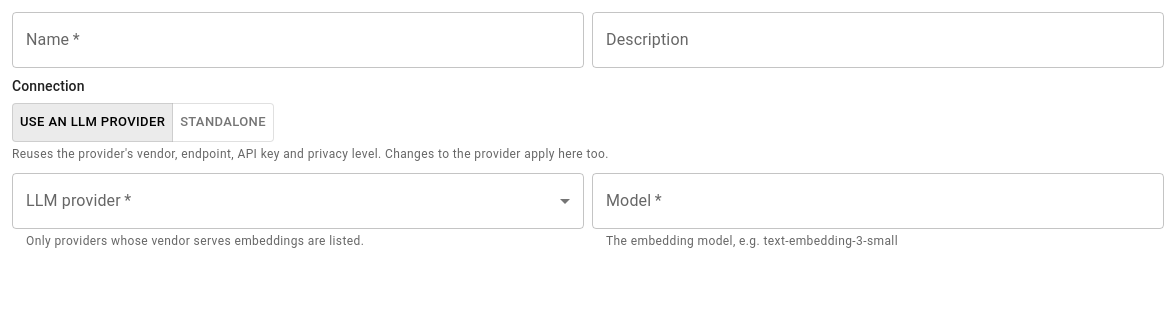
Test: EmbedderFormFields › offers only LLM providers whose vendor embeds
Press the mouse on the dropdown named "LLM provider" at (298, 200), box top-left (12, 172), bottom-right (584, 228)
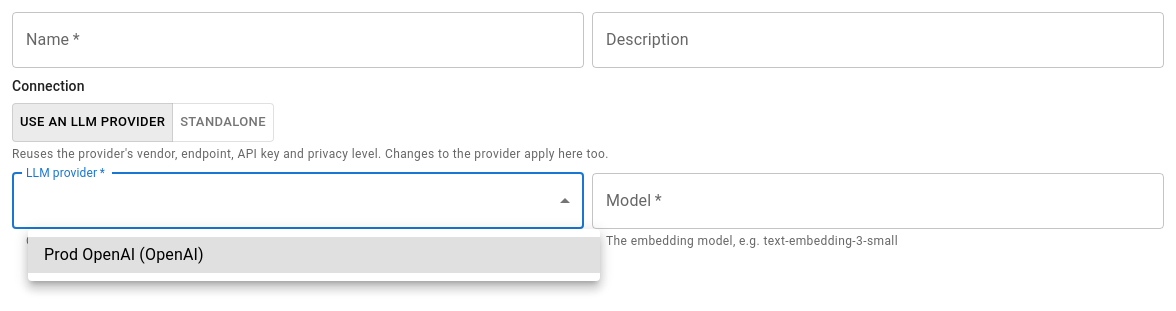
Expected: the option "Prod OpenAI (OpenAI)" is shown, top-left (28, 237), bottom-right (600, 273)
